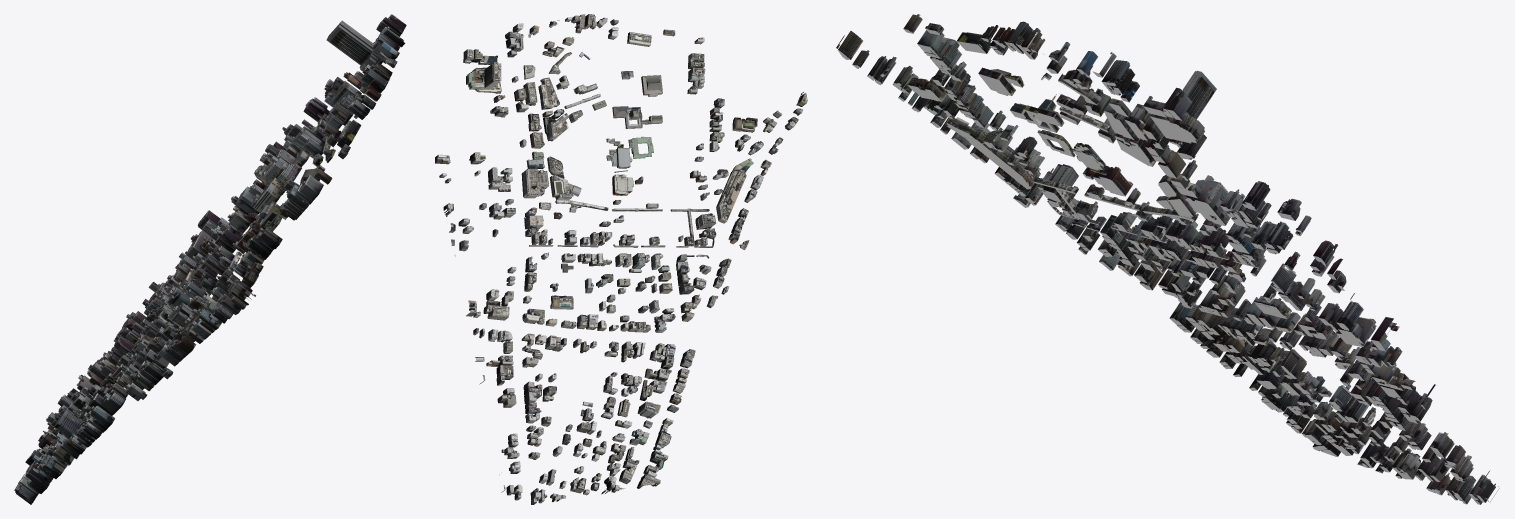
The model's file is 4941_bldg_Building.glb.
The picture shows the model from 3 angles, left to right: view 1: azimuth 30°, elevation 25°; view 2: azimuth 150°, elevation 25°; view 3: azimuth 270°, elevation 25°; orthographic projection. The views are drawn at different scales.
Bounding box in the file's own units: 723 × 1015 × 1115.
Materials: 8 (7 with a texture image).
